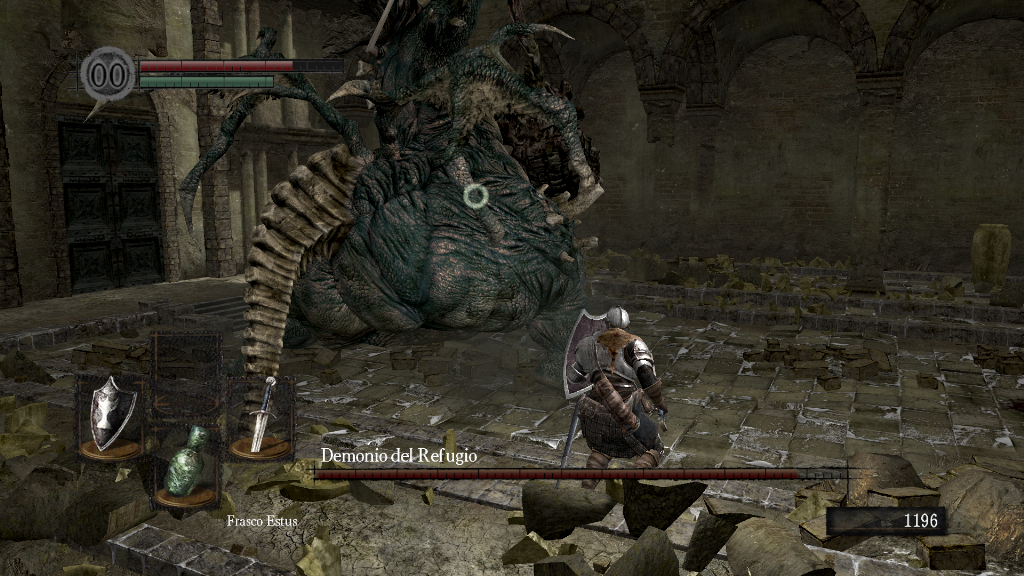asylumDemon: (178, 5, 607, 460)
bossHP: (314, 469, 847, 479)
health: (138, 58, 343, 71)
humanity: (80, 45, 136, 102)
player: (562, 304, 671, 493)
souls: (825, 506, 945, 536)
stamina: (138, 74, 274, 88)
